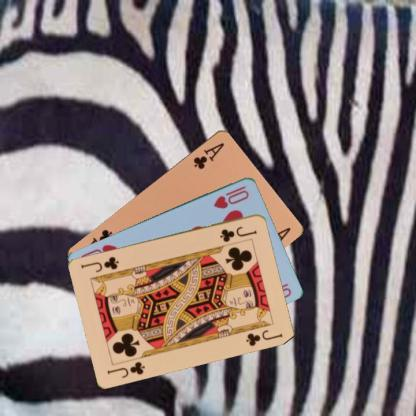10h: (211, 182, 250, 210)
Ac: (191, 140, 226, 170)
Jc: (105, 358, 147, 379), (218, 223, 258, 243)
